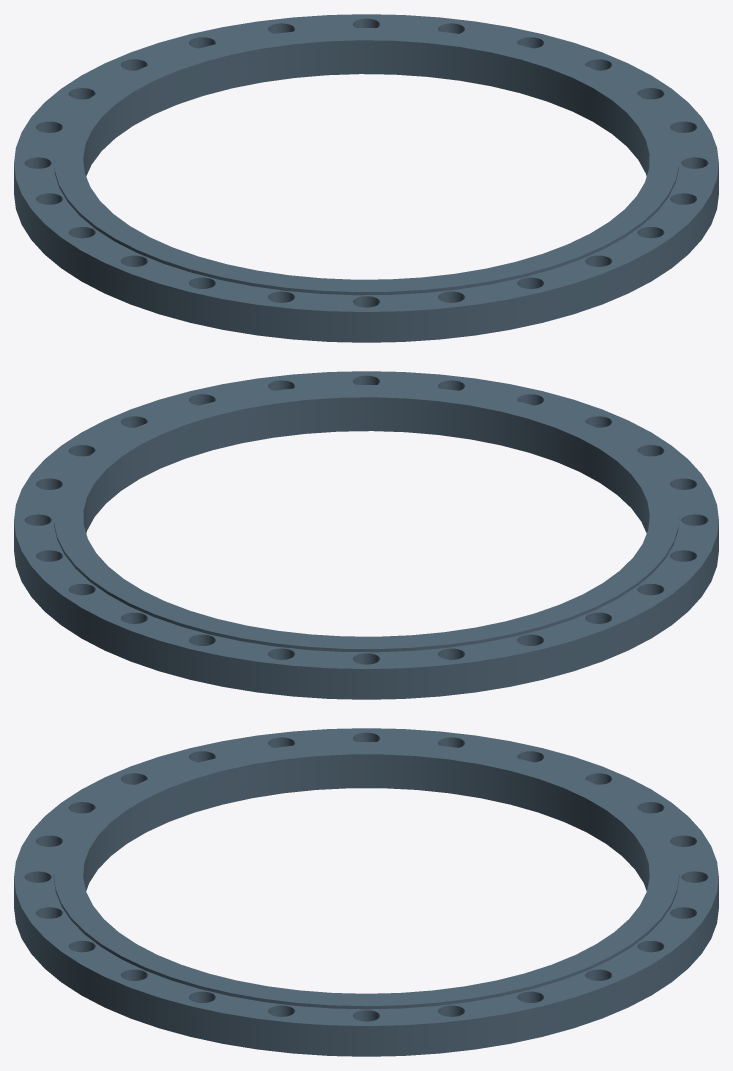
Rendered from flanec-ploskij-DN800-PN16.glb.
3 renders of one model, top to bottom at view 1: azimuth 30°, elevation 25°; view 2: azimuth 150°, elevation 25°; view 3: azimuth 270°, elevation 25°, orthographic.
Visible parts, largest first — view 1: Open CASCADE STEP translator 7.9 62; view 2: Open CASCADE STEP translator 7.9 62; view 3: Open CASCADE STEP translator 7.9 62.
Part boxes in pixels (x1,y1,x2,y2): Open CASCADE STEP translator 7.9 62: [14, 14, 718, 342]; Open CASCADE STEP translator 7.9 62: [14, 371, 718, 699]; Open CASCADE STEP translator 7.9 62: [14, 728, 718, 1056].
Size of the model in its own units: 1020 by 54 by 1020.
